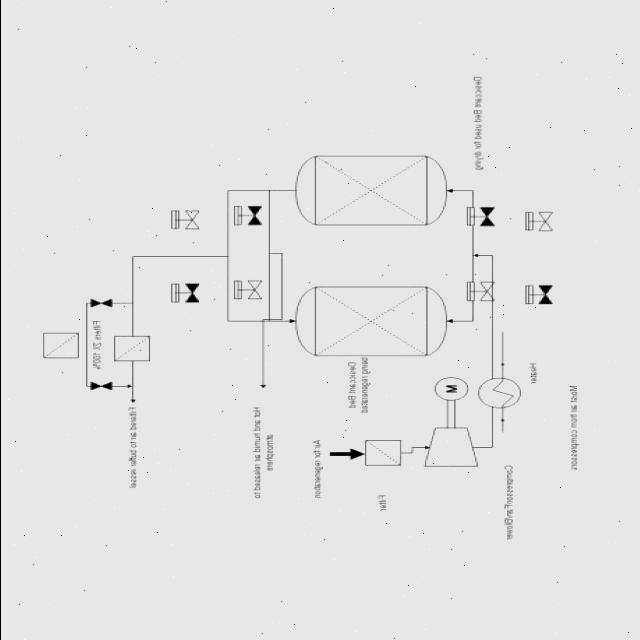Bleeder Valve: (86, 382, 114, 398), (86, 298, 115, 312)
Rotary Piston-Pneumatic Closed Gate Valve: (514, 274, 562, 316), (146, 275, 202, 307), (460, 202, 498, 232), (230, 198, 260, 229)
Rotary Piston-Pneumatic Gate Valve: (157, 200, 209, 237), (508, 202, 558, 236), (228, 271, 265, 304), (460, 276, 500, 302)
